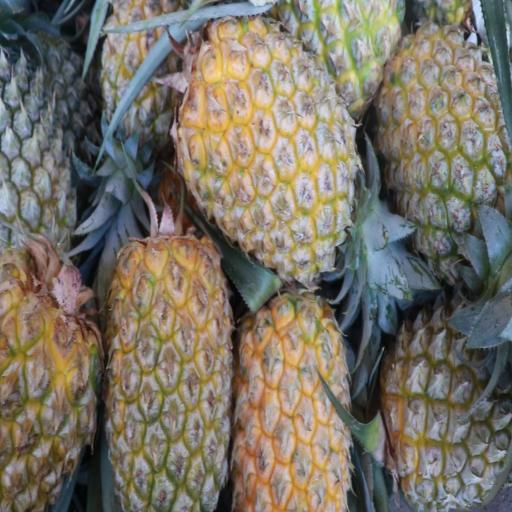------------------------------: (383, 25, 511, 274), (382, 296, 512, 506), (100, 0, 194, 149)
Pineapple - v8 v1: (184, 11, 348, 271), (106, 240, 228, 510), (0, 245, 106, 512), (237, 292, 346, 509), (295, 0, 401, 105)
